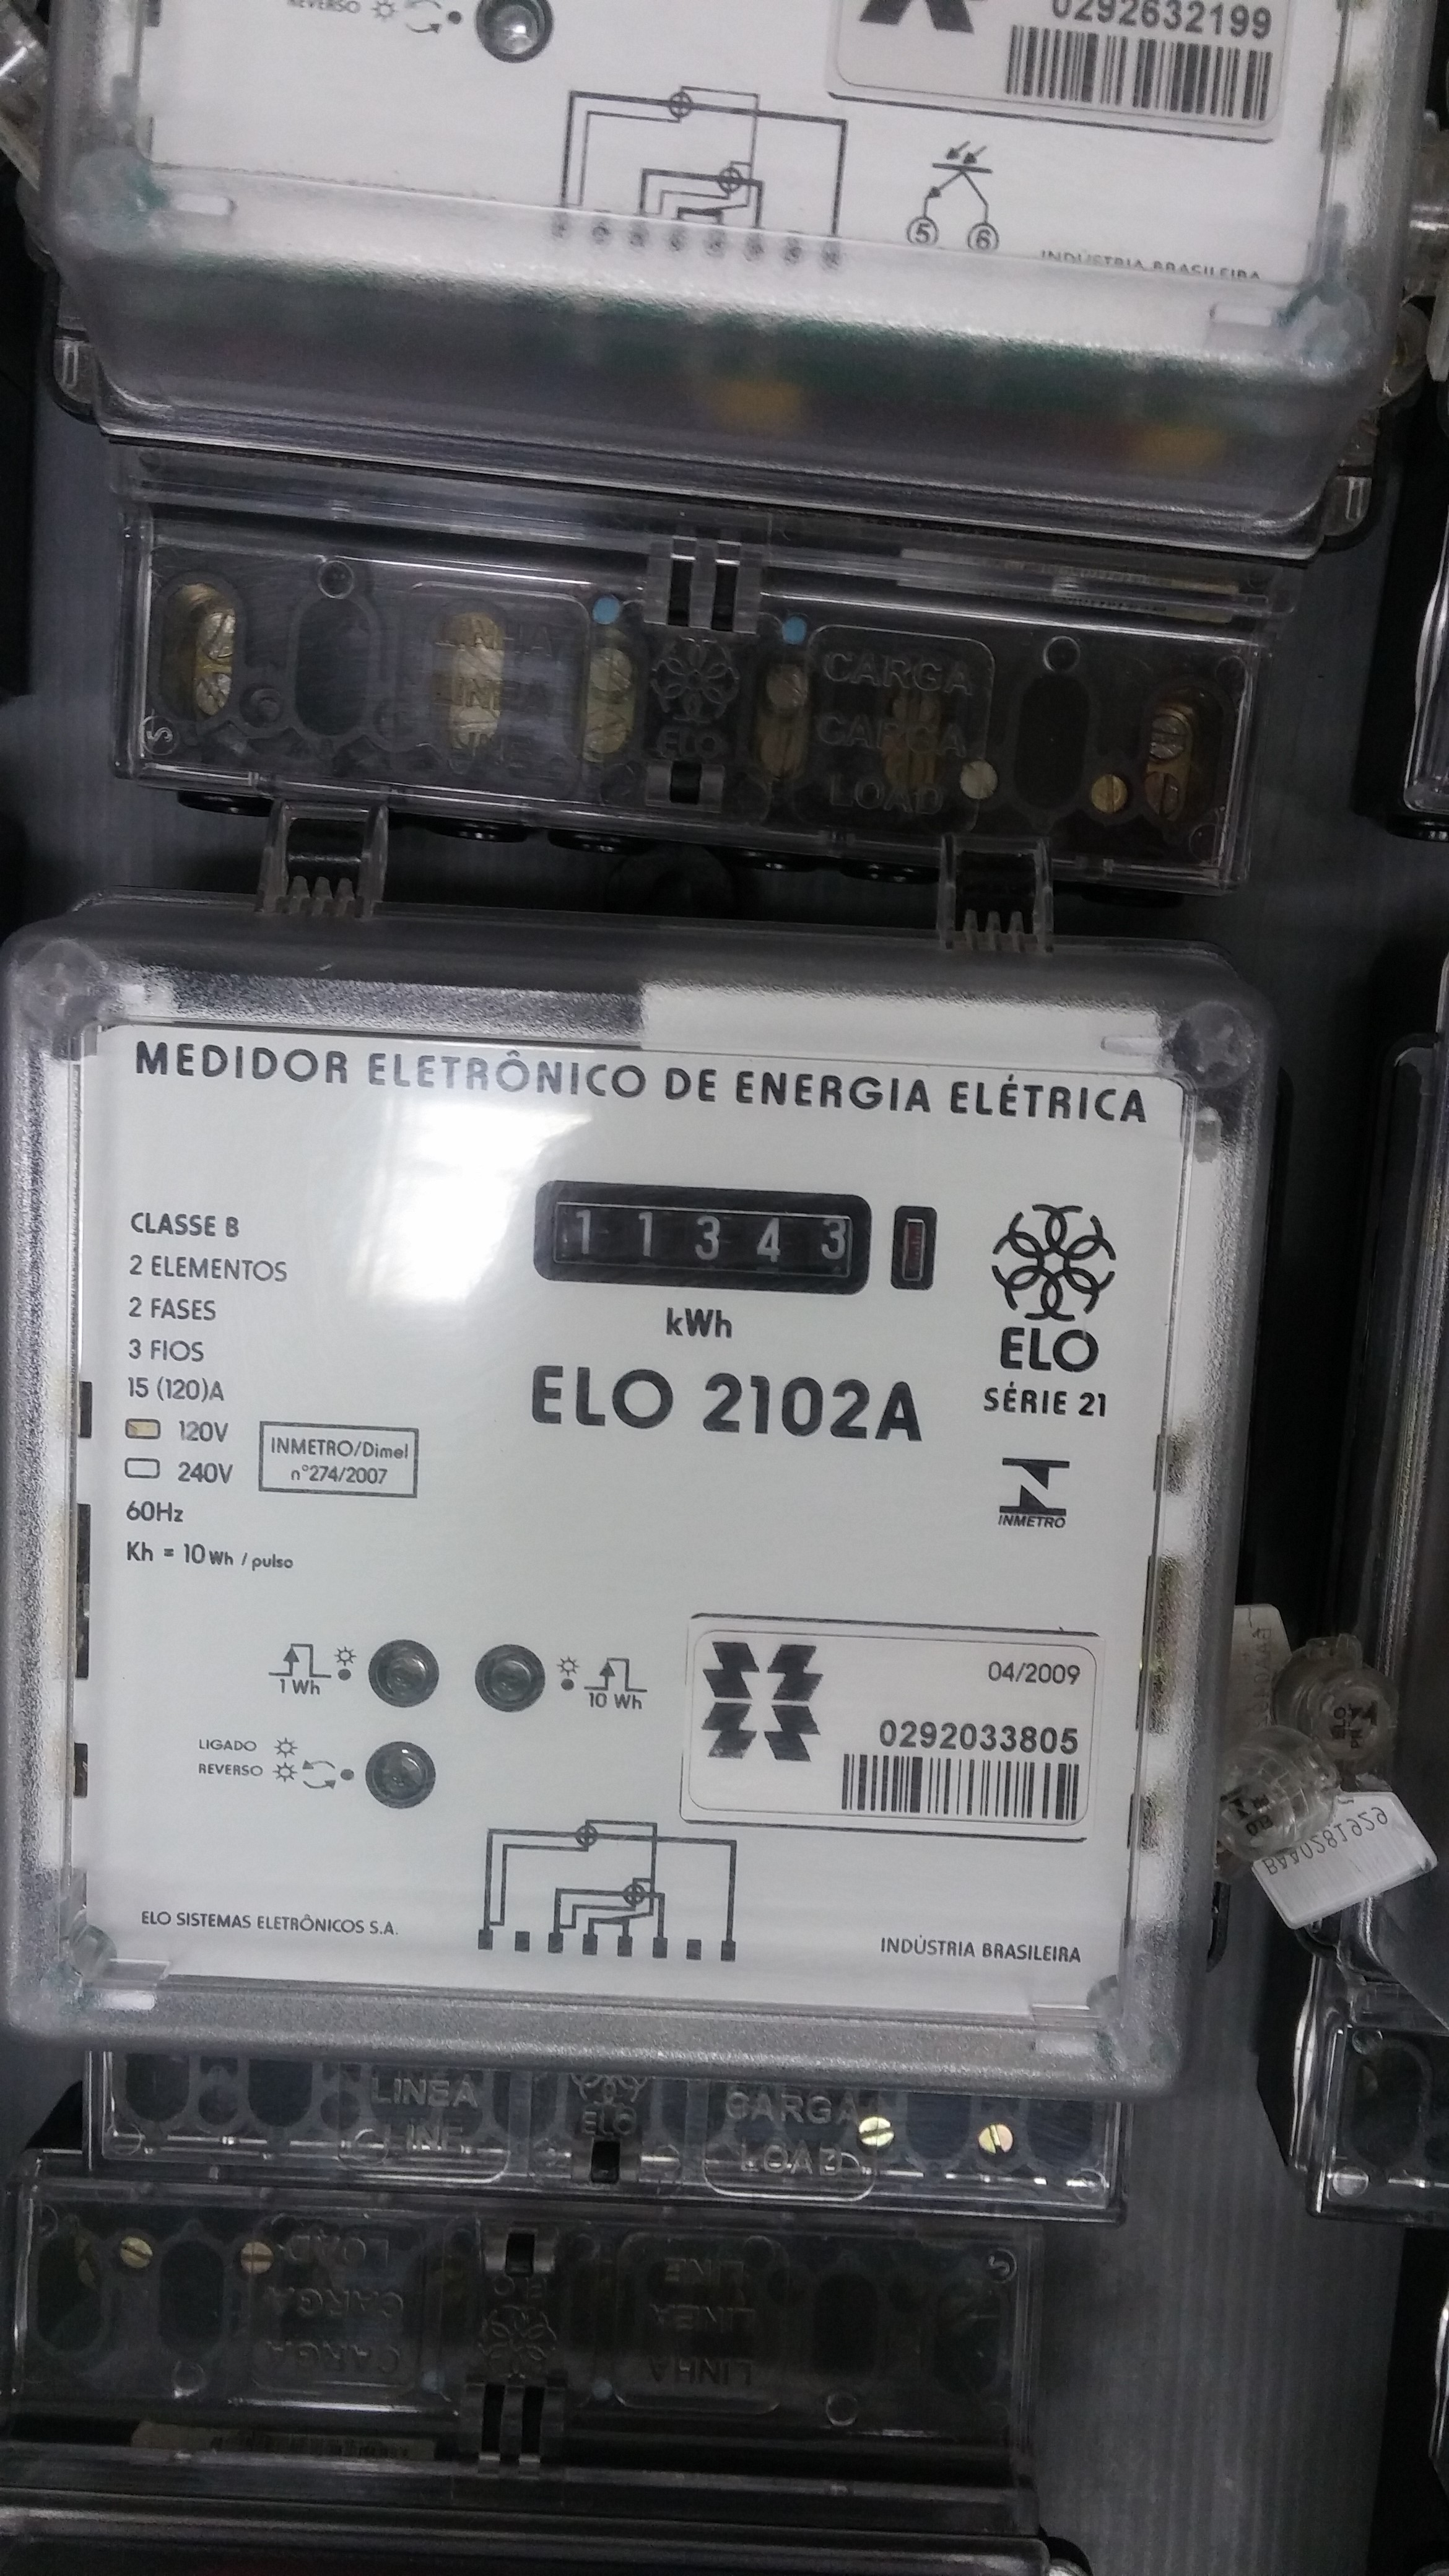counter2: (529, 1182, 890, 1304)
